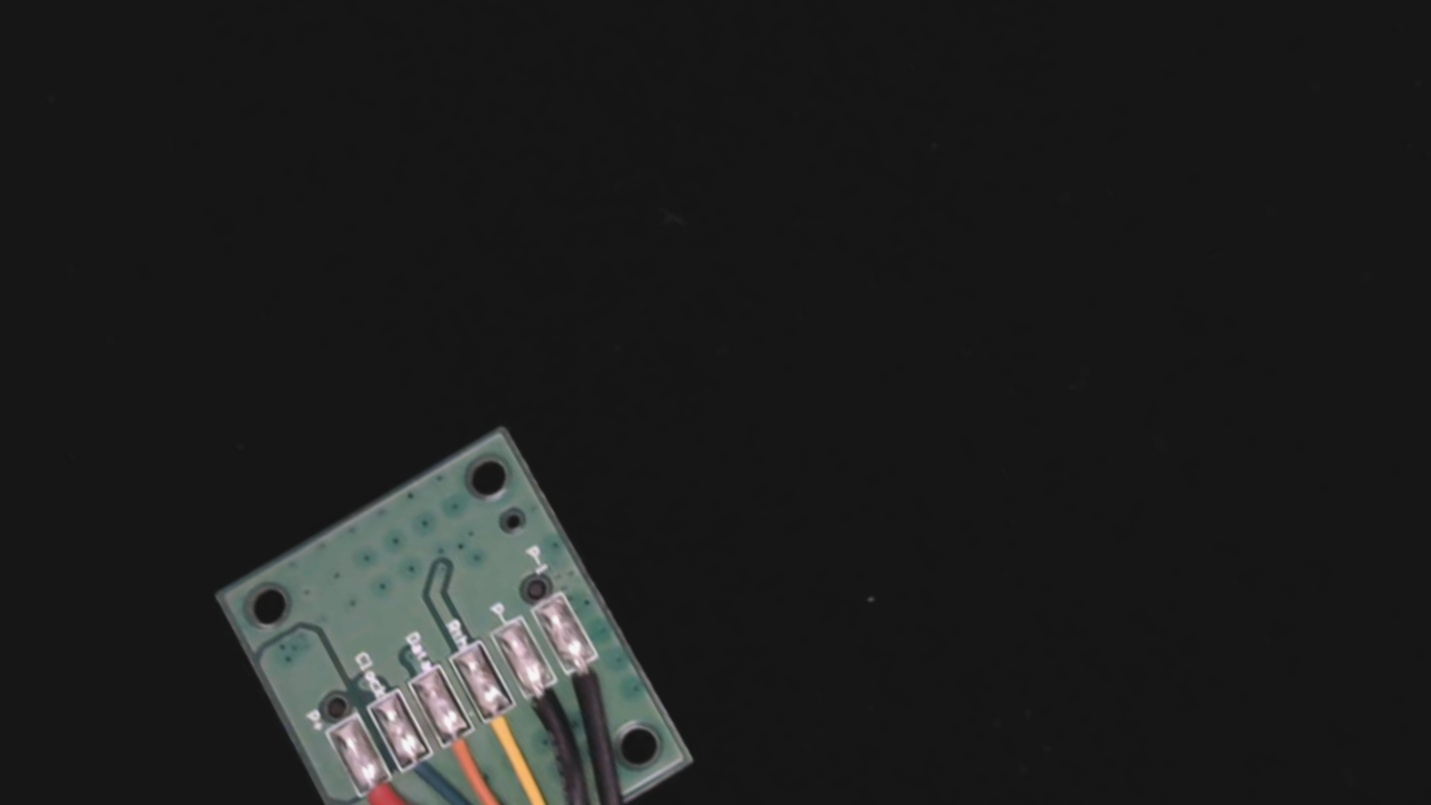Black: (508, 657, 590, 751)
Black1: (552, 637, 627, 719)
Green: (385, 733, 456, 805)
Orange: (425, 705, 502, 791)
Red: (342, 752, 422, 805)
Yellow: (467, 681, 549, 776)
